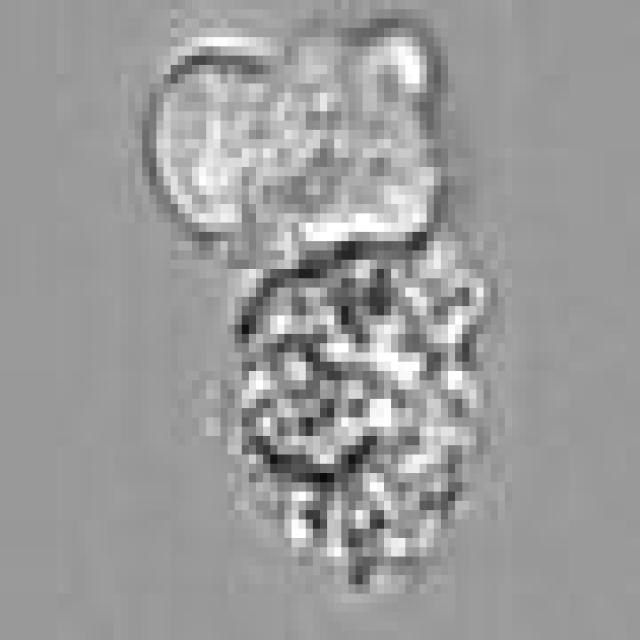WBC: (234, 241, 483, 566), (149, 37, 441, 251)
